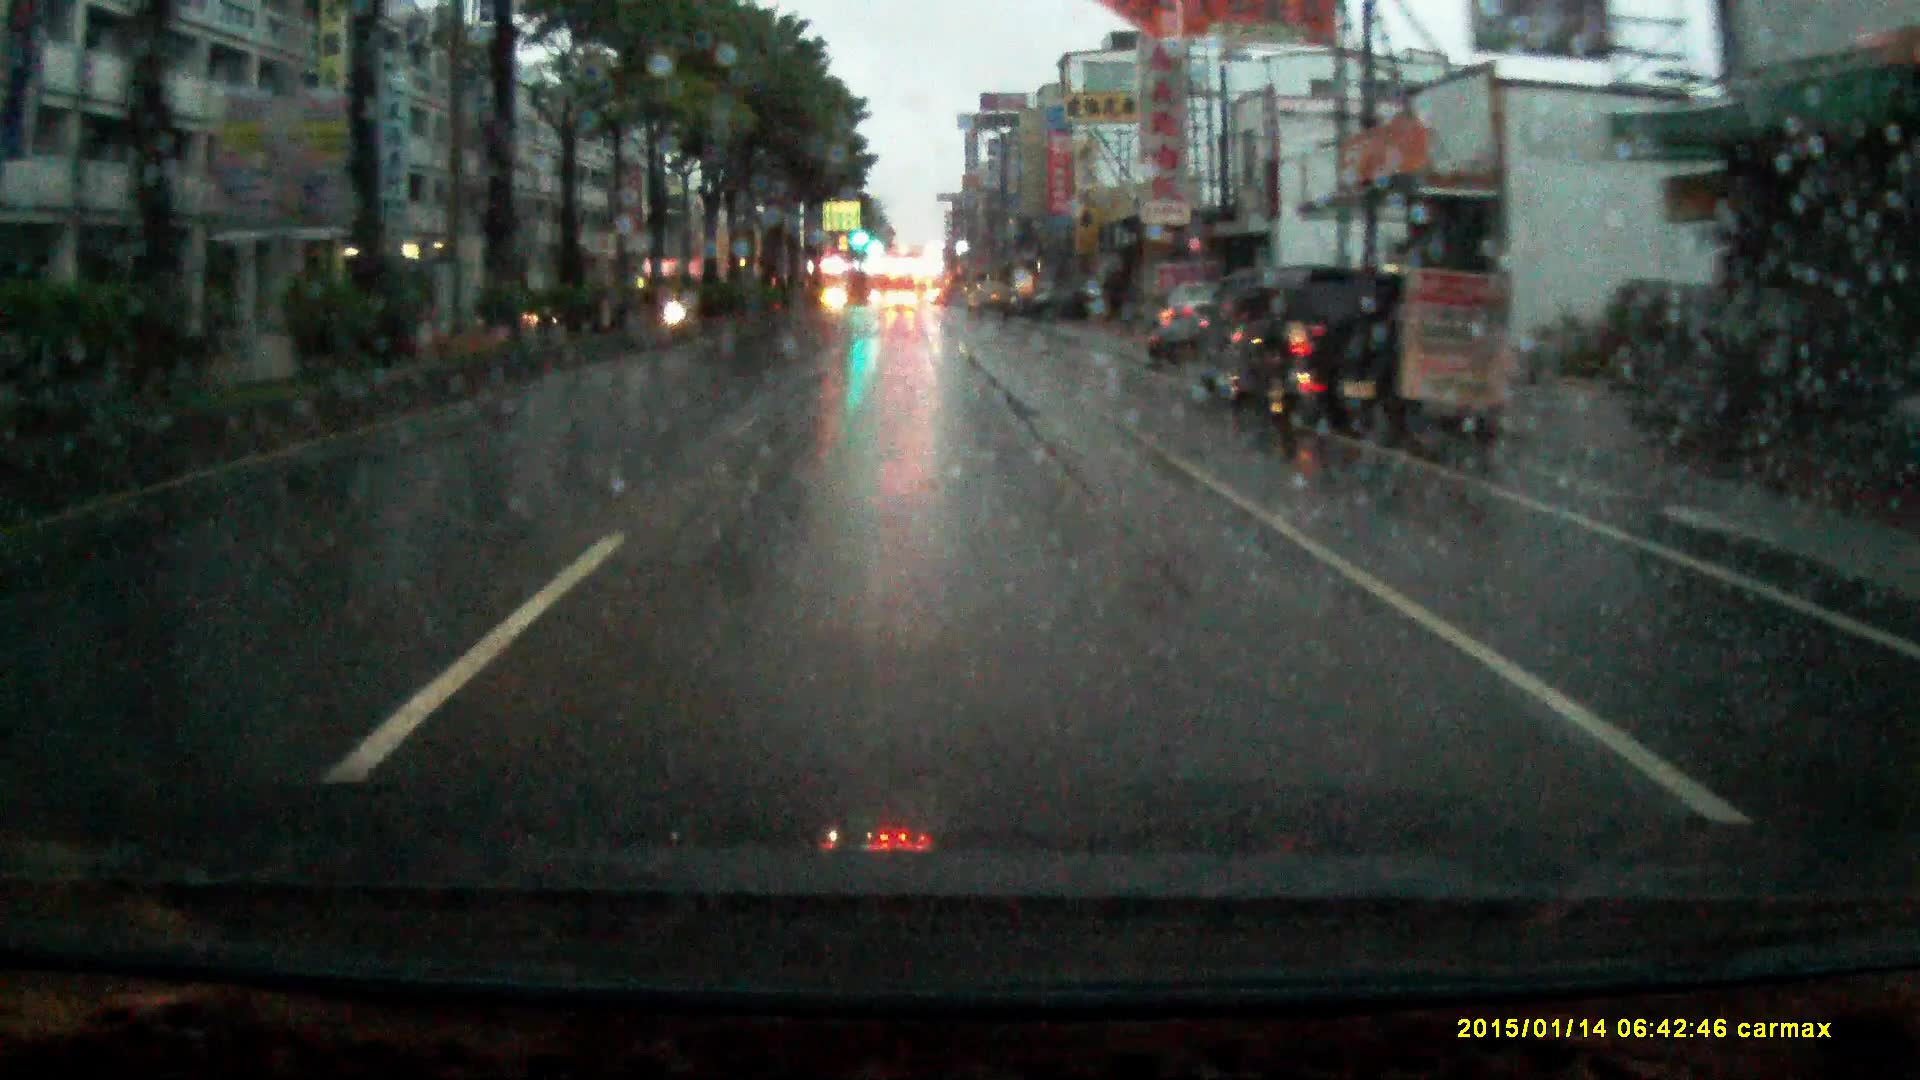vehicle: (1218, 269, 1428, 447), (884, 291, 918, 316)
